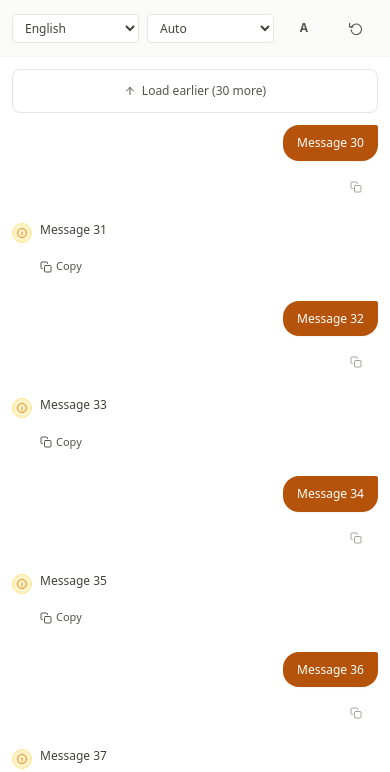
Test: InsightChat — loadEarlier button (lines 196-206) › clicking 'Load earlier' multiple times eventually reaches 0
# First click
Click the button "Load earlier (30 more)" at (195, 91), box [12,69,378,113]
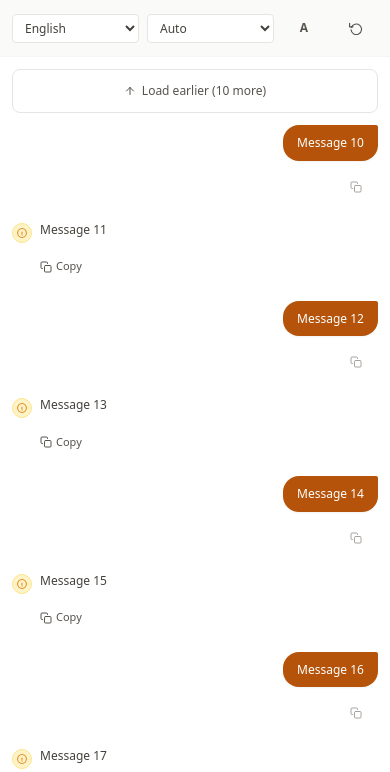
Click the button "Load earlier (10 more)" at (195, 91), box [12,69,378,113]
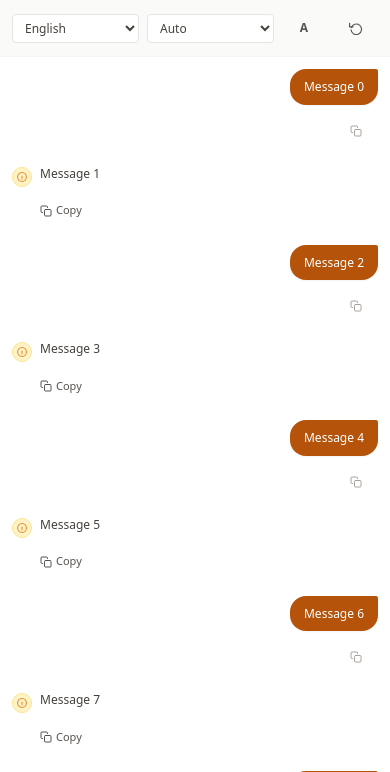
Now the button "Load earlier" is gone
